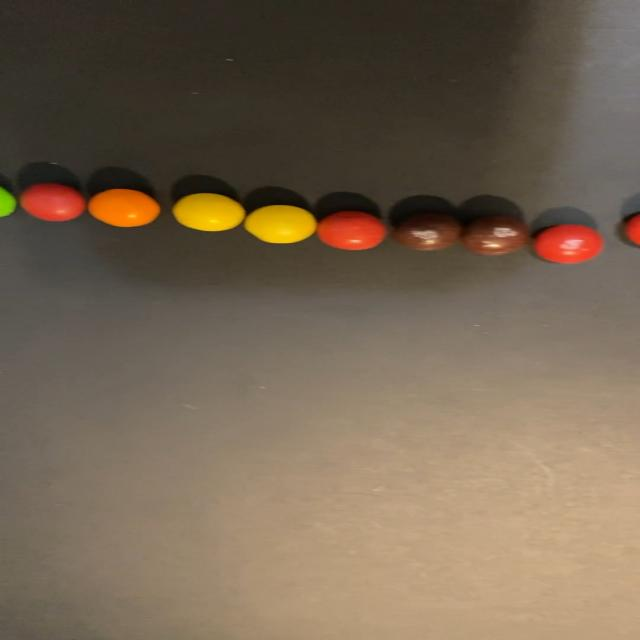smartie: (171, 193, 244, 231), (244, 205, 316, 243), (316, 211, 385, 250), (87, 189, 159, 226), (461, 216, 529, 255), (535, 224, 603, 263), (18, 182, 84, 221), (393, 213, 462, 250)
